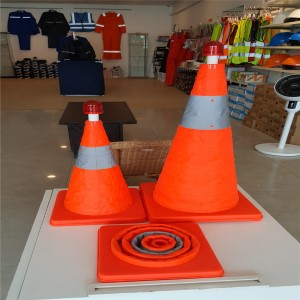traffic cone: (139, 64, 263, 221), (49, 120, 146, 228)
